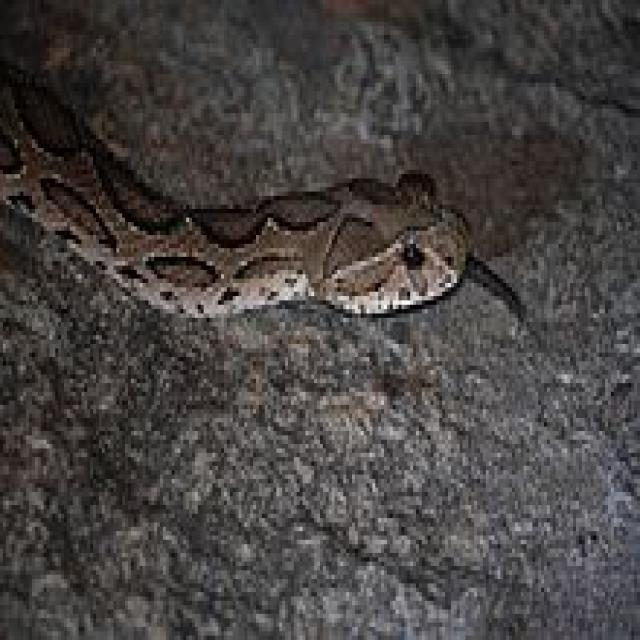Snake: (0, 48, 524, 326)
